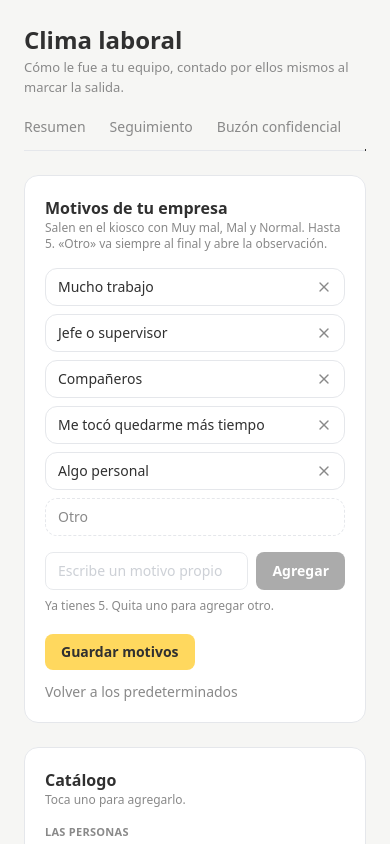
motivos › si el servidor rechaza, se ve por qué
Click the button "Guardar motivos".
click(120, 652)  # box [45,634,194,670]
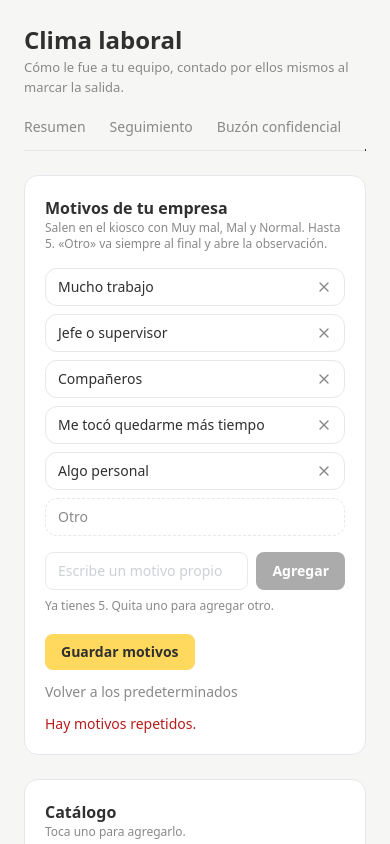
Check: the text "Hay motivos repetidos." is shown, box [45,714,196,733]
